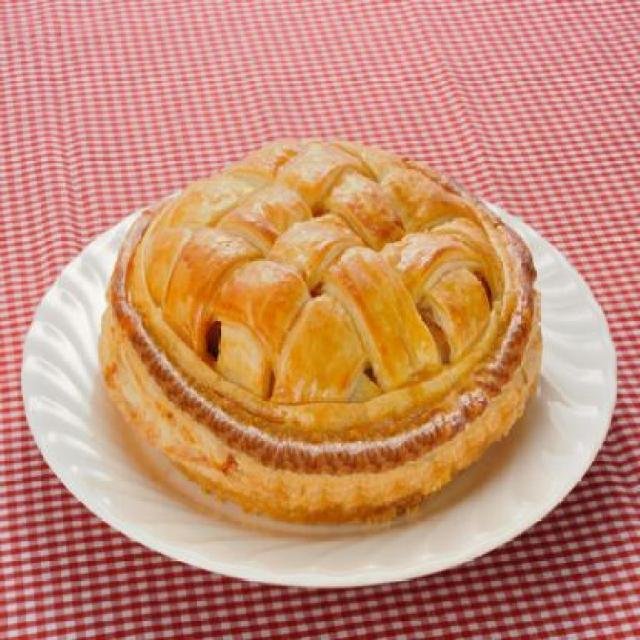Apple: (83, 134, 546, 526)
